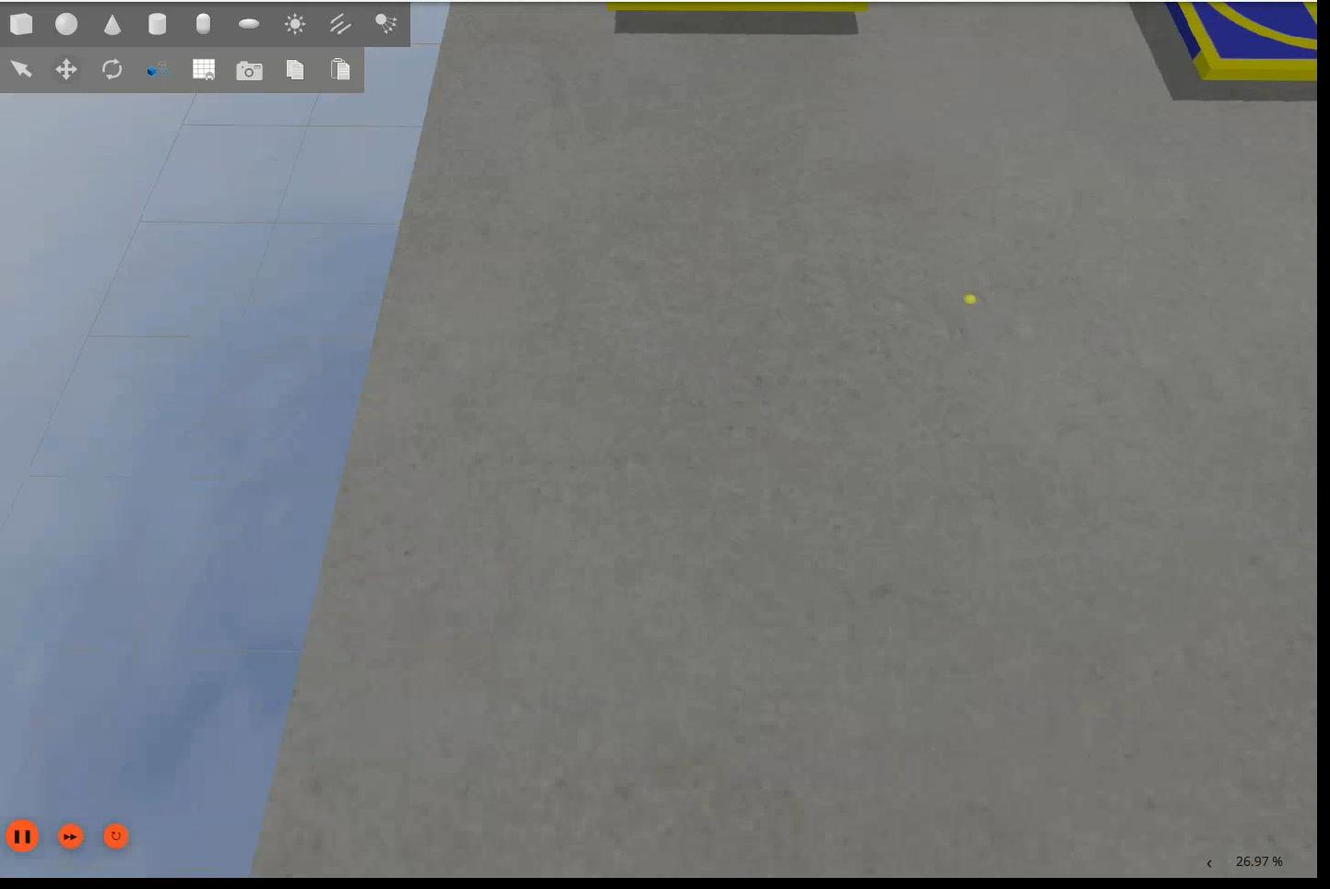small_base: (1173, 1, 1321, 83)
